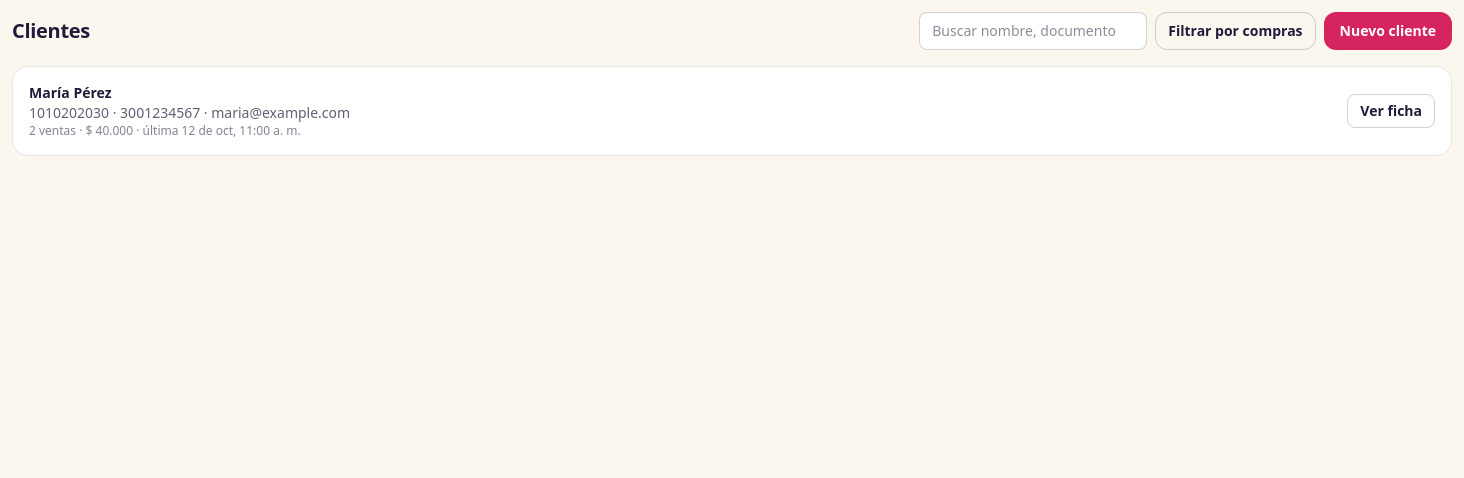
Scenario: Clientes — ficha › muestra la evidencia de la autorización, el total comprado y el historial con vendedor y pagos
Click the button "Ver ficha" at (1391, 111), box [1347,94,1435,128]
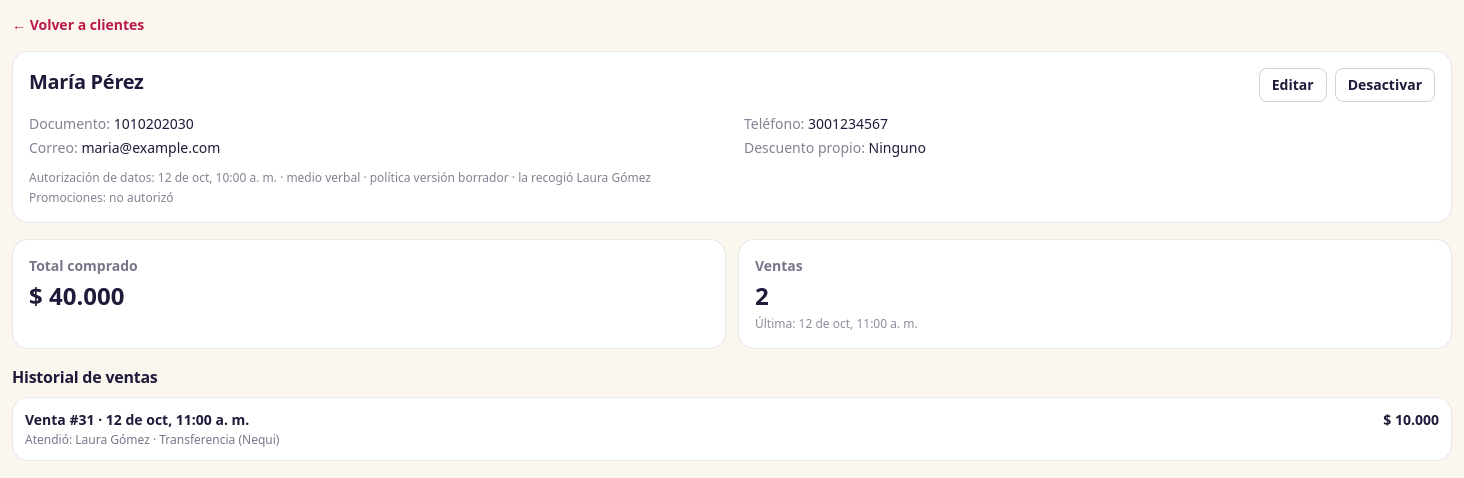
expect the heading "María Pérez" is shown: met, box [29,68,144,96]
expect the text "la recogió Laura Gómez" is shown: met, box [509,169,651,186]
expect the text "Venta #31 · 12 de oct, 11:00 a. m." is shown: met, box [25,410,249,430]
